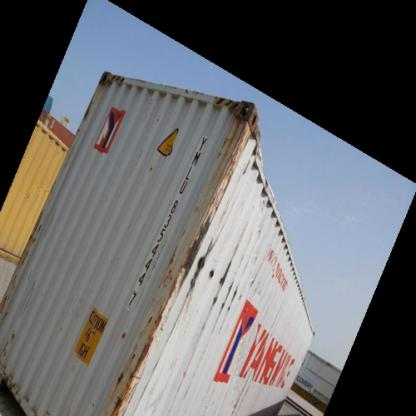Damage: (171, 218, 243, 314), (214, 107, 275, 201), (110, 314, 162, 415), (2, 312, 26, 398), (226, 370, 254, 412)
